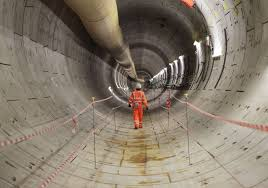helmet: (134, 82, 141, 89)
